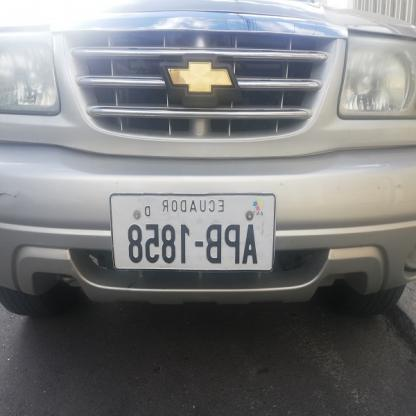Placa: (106, 192, 280, 272)
